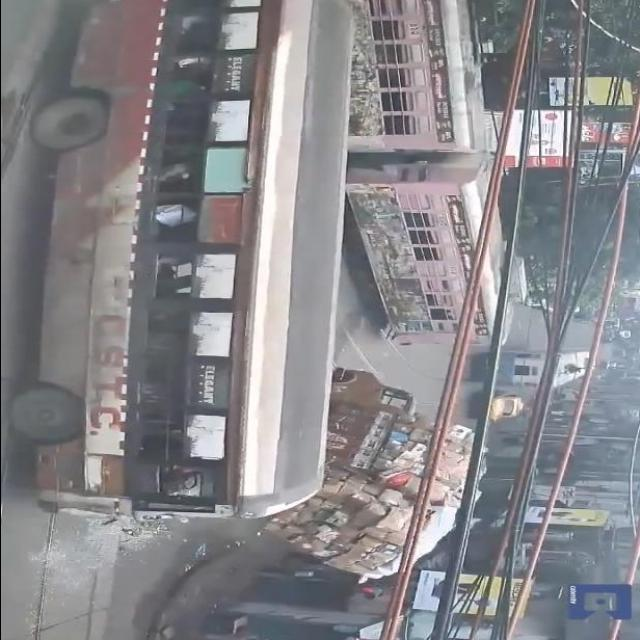accident: (263, 363, 493, 573)
